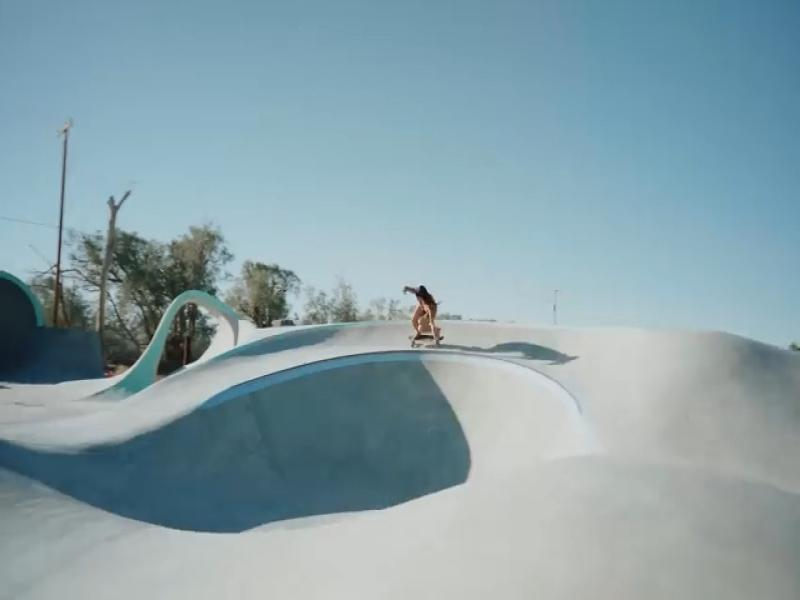person: (404, 286, 441, 343)
skate: (409, 334, 442, 348)
